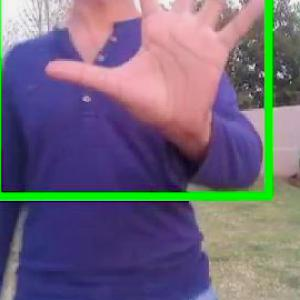follow_hand: (36, 0, 276, 138)
